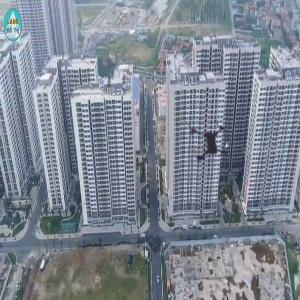drone: (162, 91, 264, 193)
